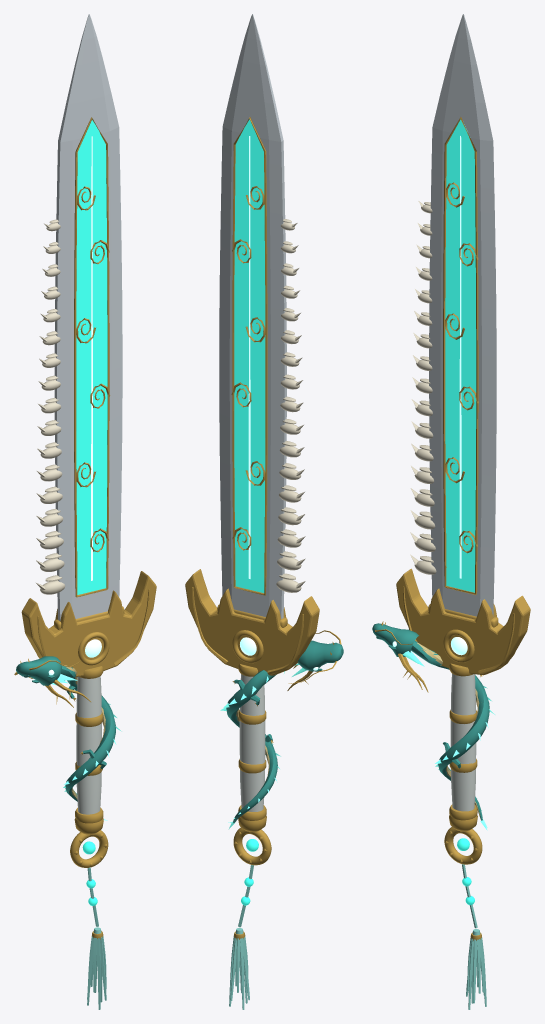
File: wp-sword-dragon.glb
3 views of the same model, side by side, from view 1: azimuth 30°, elevation 25°; view 2: azimuth 150°, elevation 25°; view 3: azimuth 330°, elevation 25° (orthographic).
Parts seen in each view (by area): view 1: wp-sword-dragon; view 2: wp-sword-dragon; view 3: wp-sword-dragon.
Boxes of the visible parts, bbox=[...] form: wp-sword-dragon: bbox=[14, 14, 156, 1009]; wp-sword-dragon: bbox=[185, 14, 343, 1009]; wp-sword-dragon: bbox=[372, 14, 530, 1009].
Size of the model in its own units: 0.217 by 1.43 by 0.0942.
